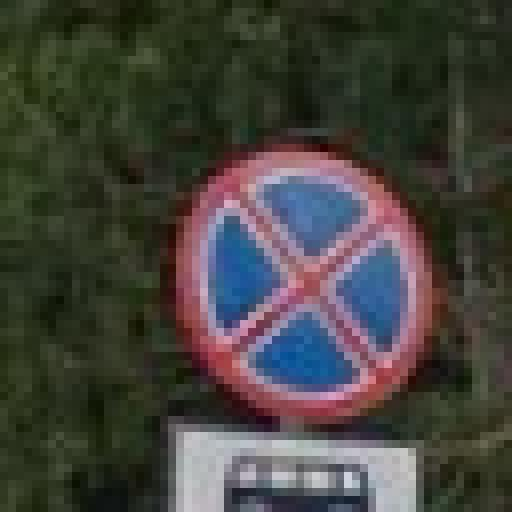traffic_sign: (169, 145, 433, 425)
